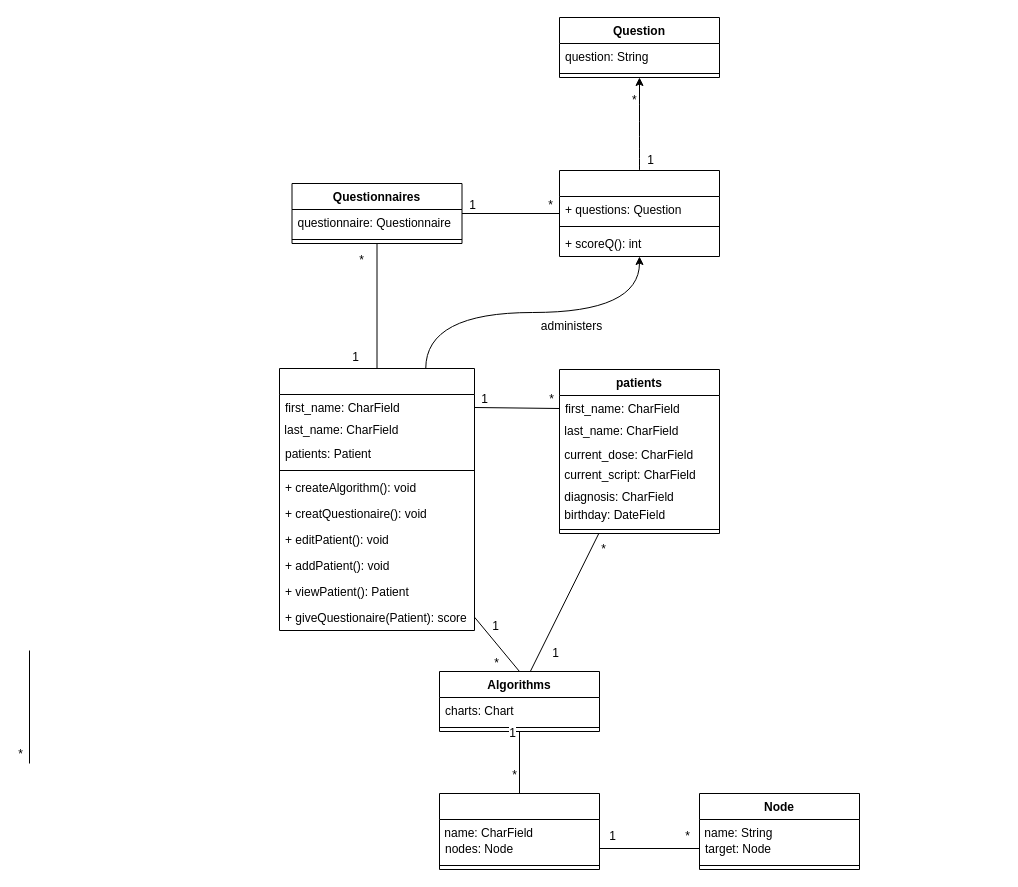
The diagram is 1018 pixels wide and 887 high, and some of its shapes have lost their labels. Here are the shapes that lost their labels. From the top down, the box of each, then its label:
(558, 170, 720, 256): Questionnaire
(278, 368, 474, 630): prescriber
(438, 792, 600, 870): Chart
